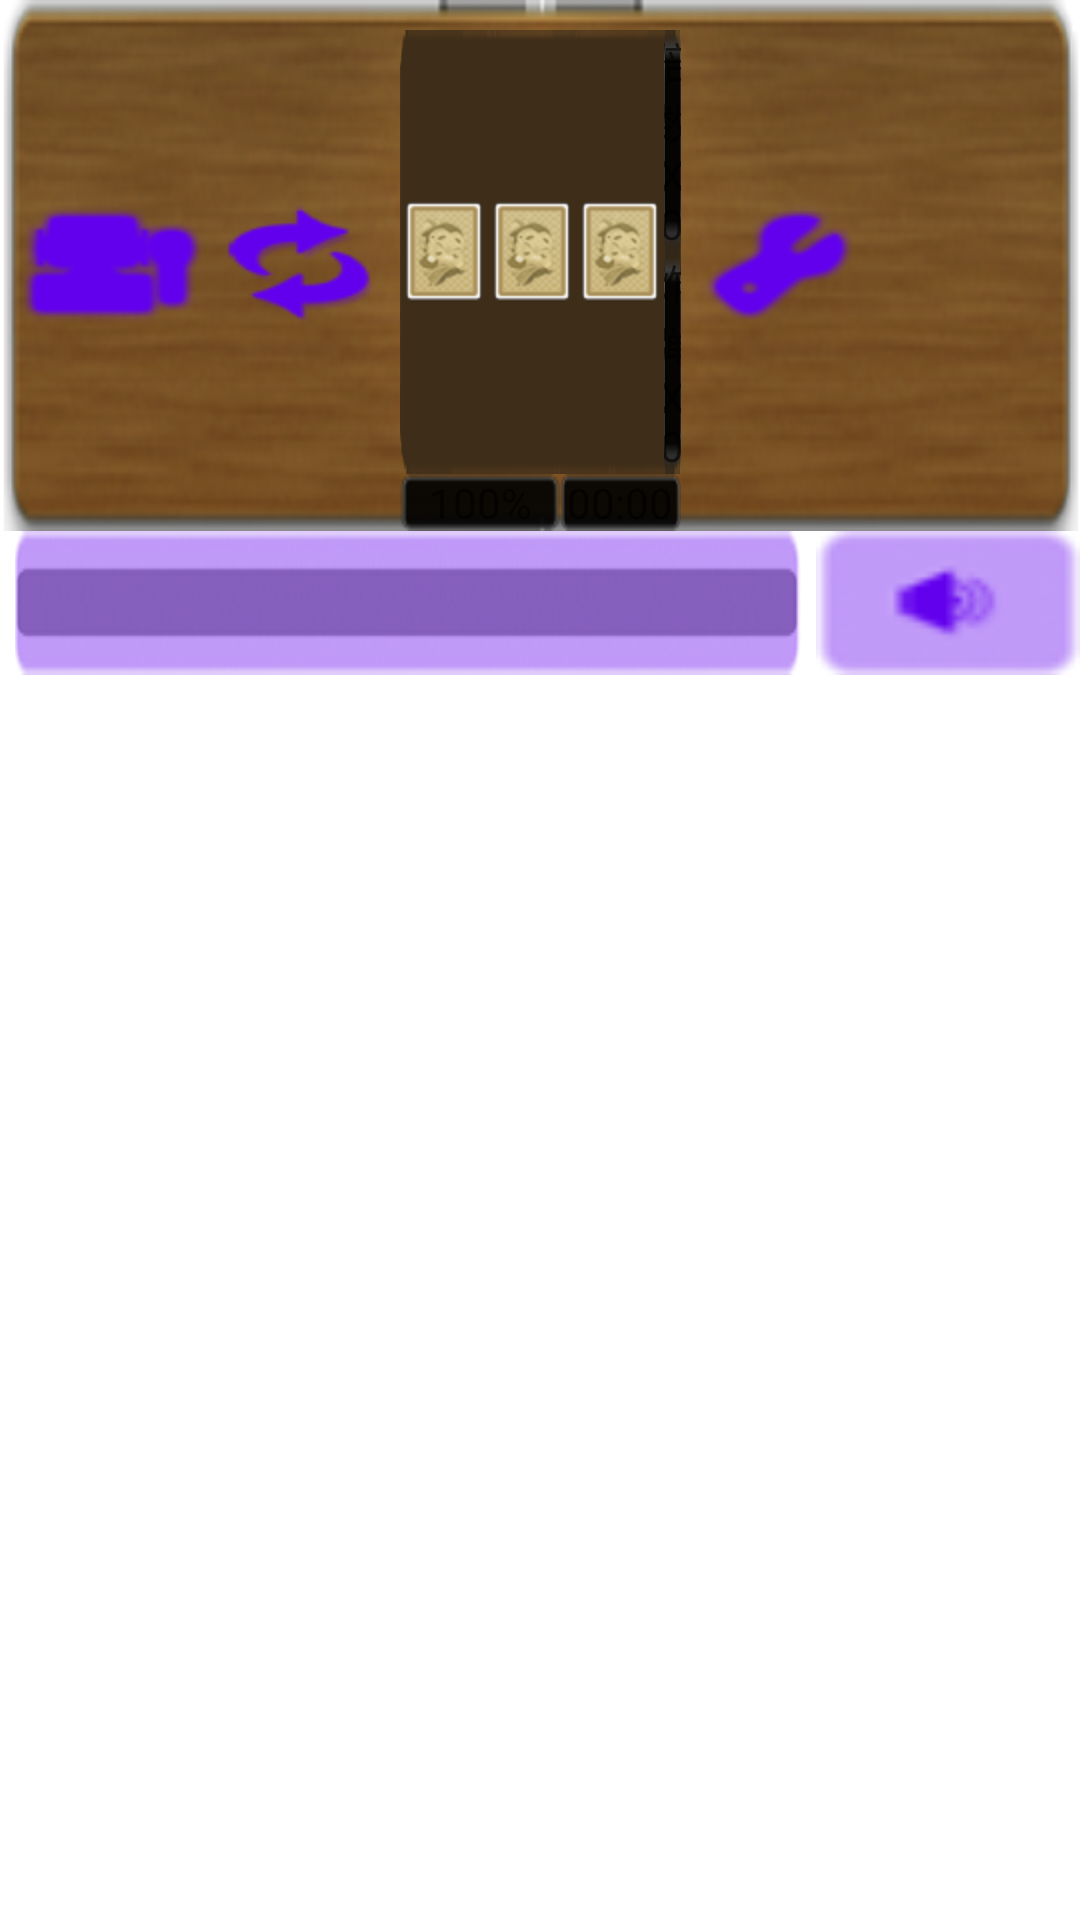

Screen size 1080px×1920px. Icon name, then its box in pixels as (x1, y1, x2, y2):
game bt changedesk: (227, 206, 372, 320)
game bt horn: (819, 531, 1080, 675)
game bt menu: (708, 210, 850, 319)
